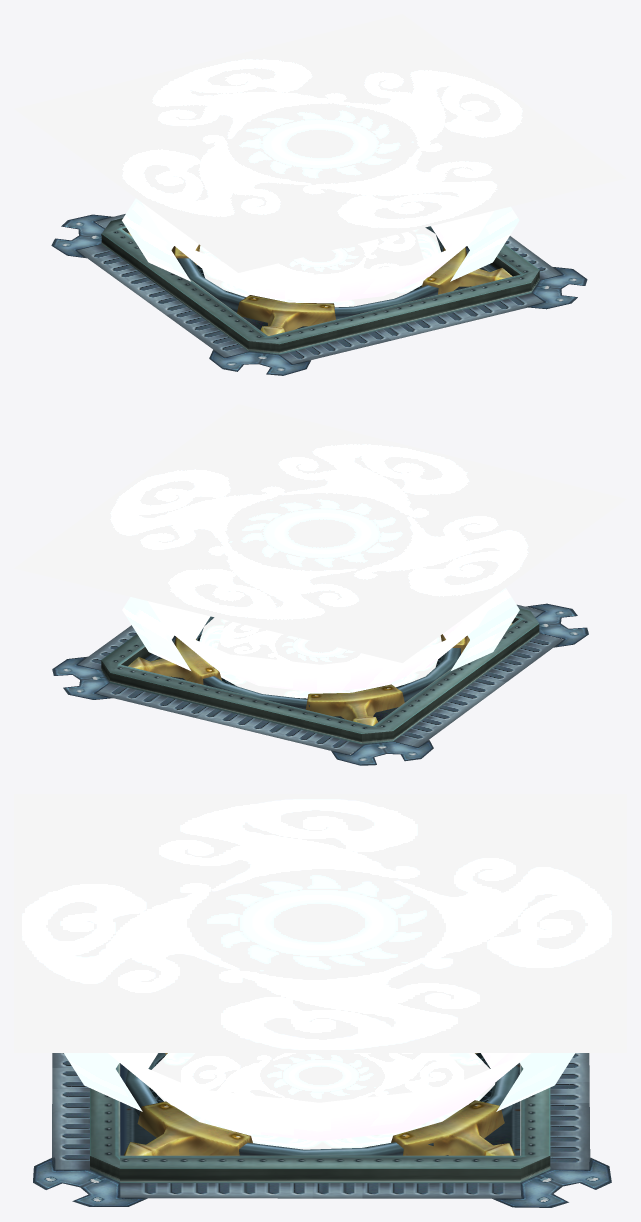
The model's file is p_portal001b.glb.
The picture shows the model from 3 angles, top to bottom: view 1: azimuth 30°, elevation 25°; view 2: azimuth 150°, elevation 25°; view 3: azimuth 270°, elevation 25°; orthographic projection. The views are drawn at different scales.
Visible parts, largest first — view 1: p_portal001b; view 2: p_portal001b; view 3: p_portal001b.
Part boxes in pixels (box(x1,y1,x2,y2)): p_portal001b: box(14, 14, 626, 375); p_portal001b: box(14, 404, 626, 765); p_portal001b: box(14, 794, 626, 1207).
Bounding box in the file's own units: 1.99 × 0.5993 × 1.99.
5 materials, 5 textured.
